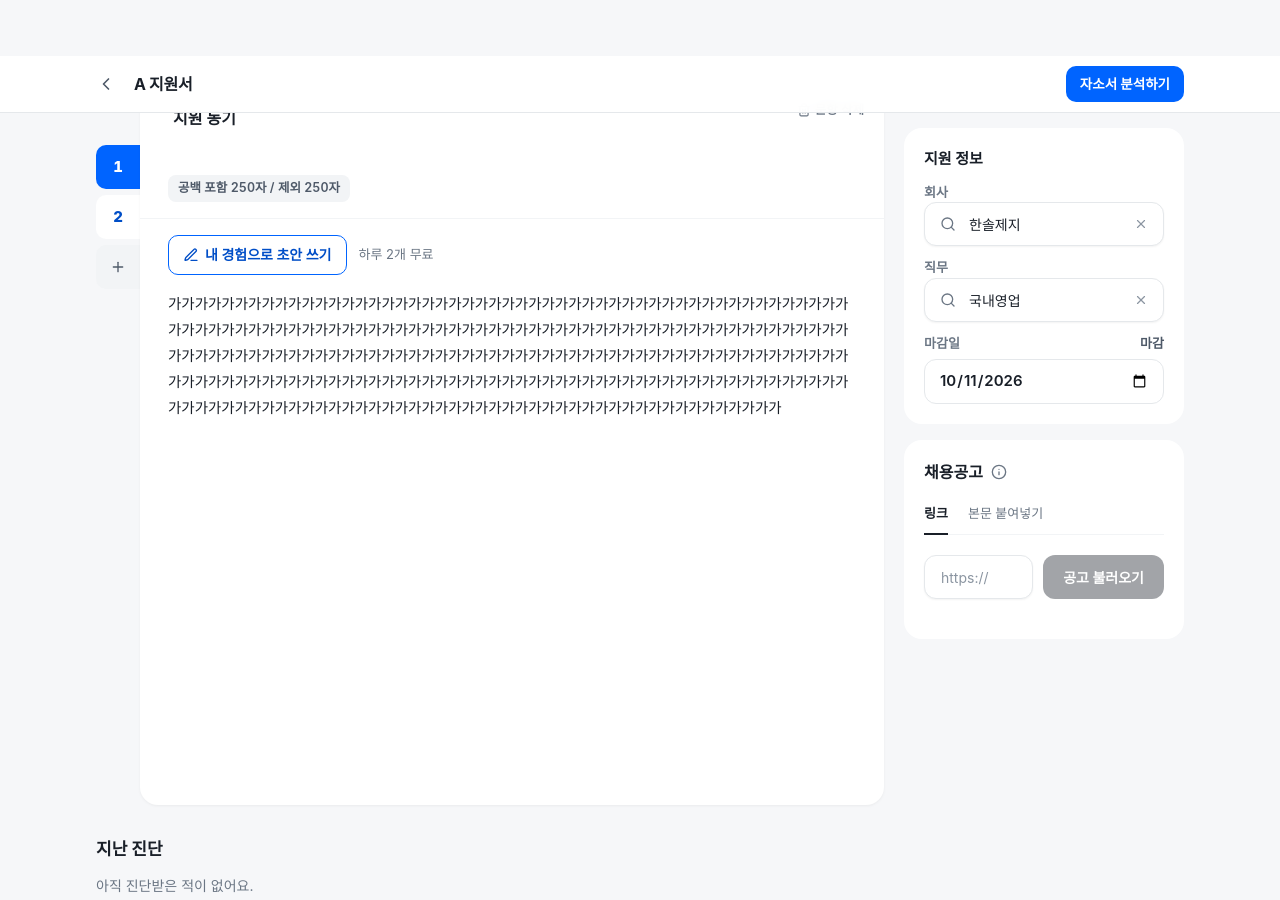
it: 오늘 한도를 다 쓰면 › 다른 문항으로 옮겨도 버튼을 막고 이유를 보여 준다
Step 1. Click the button "내 경험으로 초안 쓰기" → (257, 255), box [168,235,346,275]
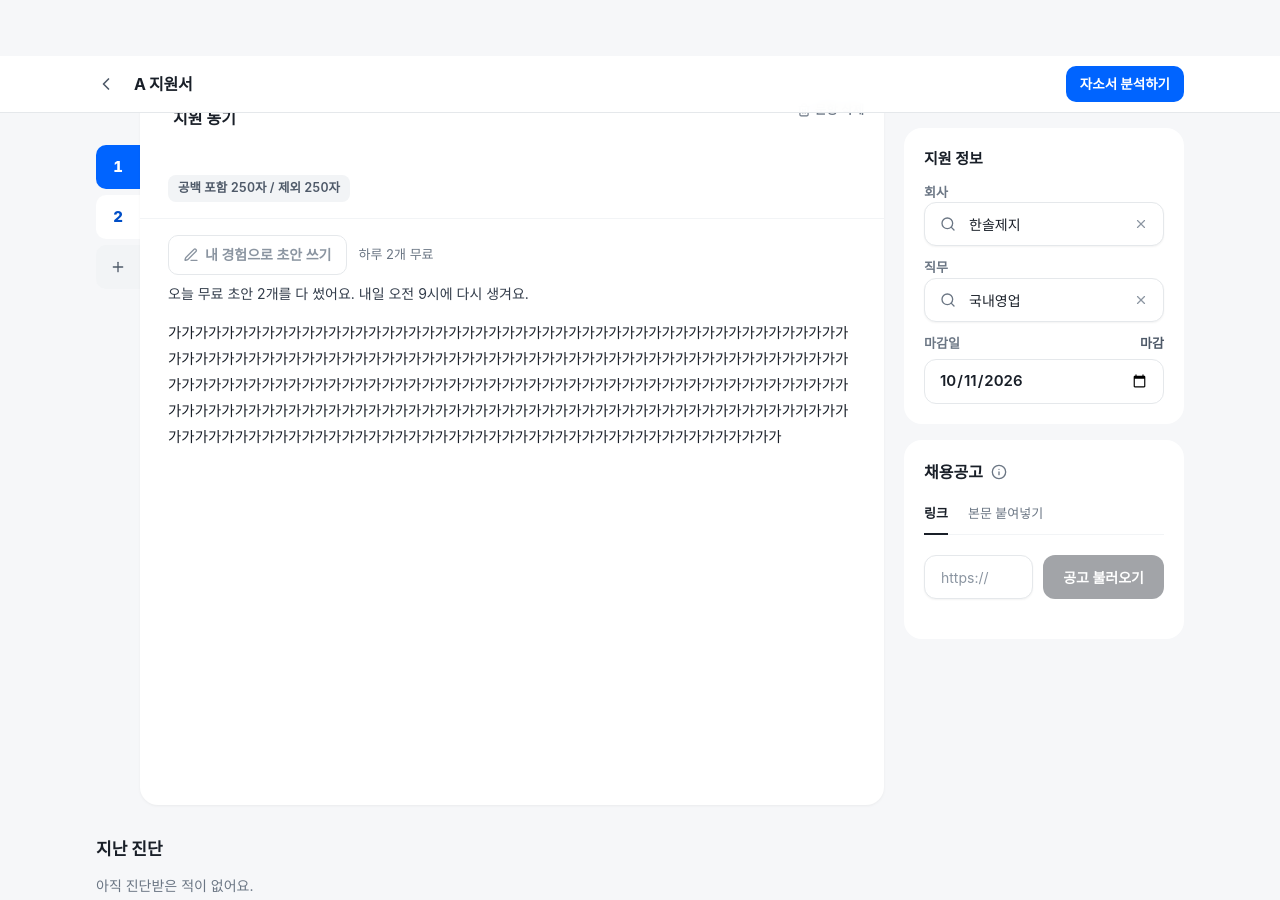
expect the text "오늘 무료 초안 2개를 다 썼어요. 내일 오전 9시에 다시 생겨요." is shown: met, box [168,285,529,302]
expect the button "내 경험으로 초안 쓰기" is disabled: met, box [168,235,346,275]
Step 2. Click the tab named "문항 2" → (118, 217), box [96,195,140,239]
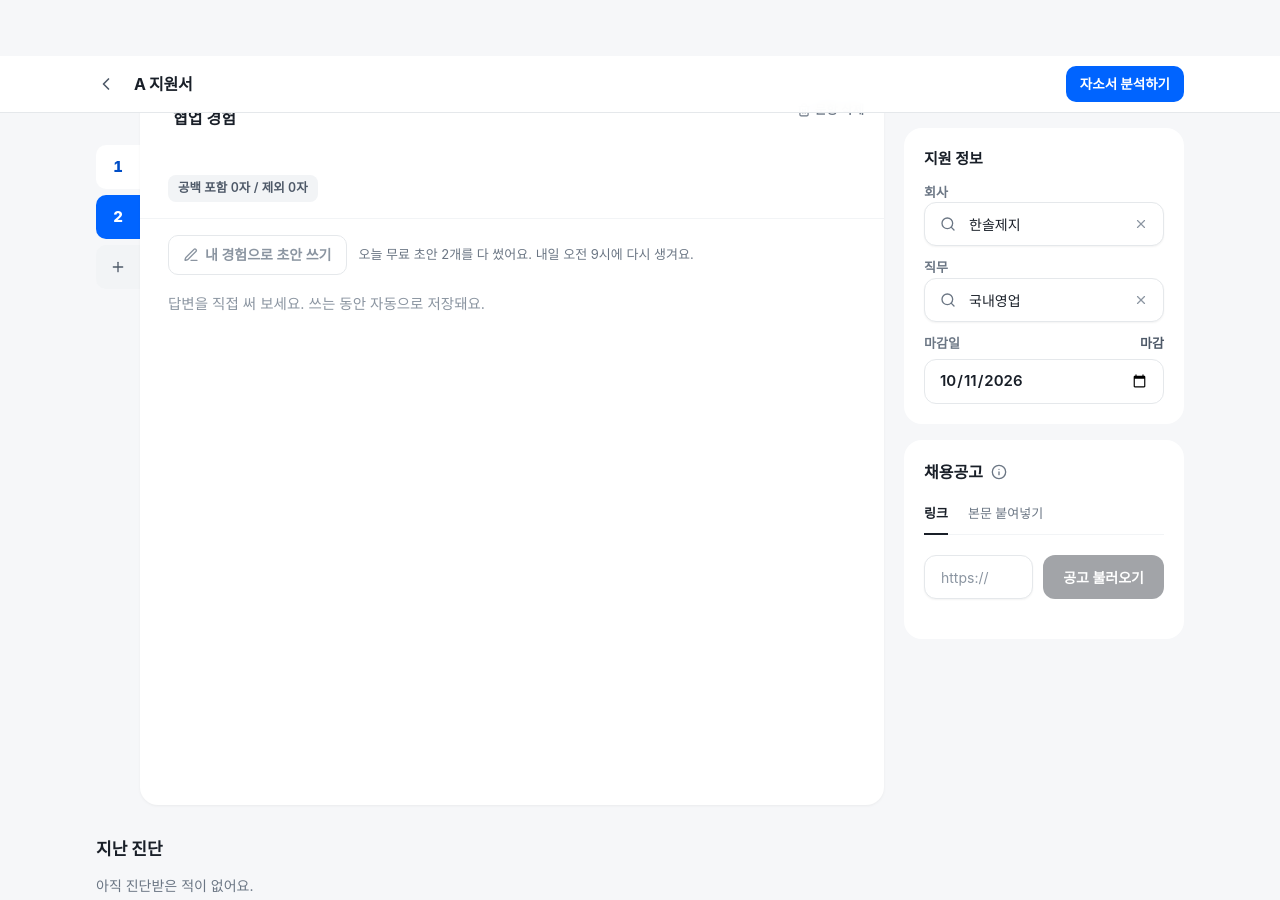
expect the button "내 경험으로 초안 쓰기" is disabled: met, box [168,235,346,275]
expect the text "오늘 무료 초안 2개를 다 썼어요. 내일 오전 9시에 다시 생겨요." is shown: met, box [358,245,694,265]
